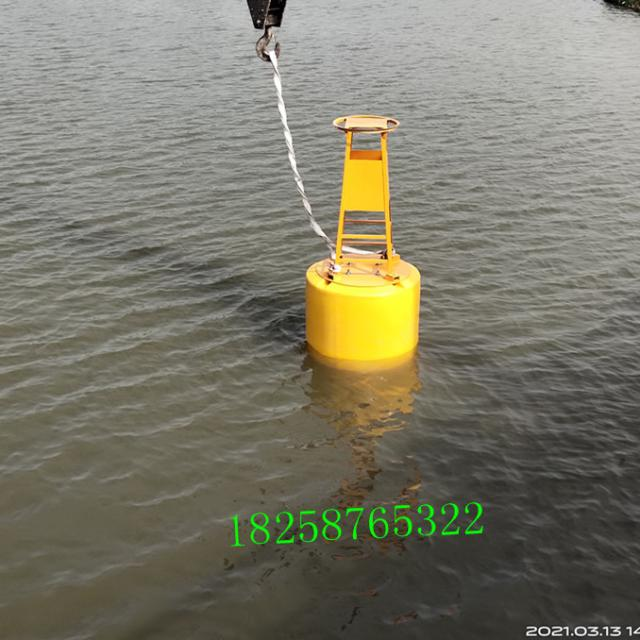buoy: (299, 108, 423, 373)
